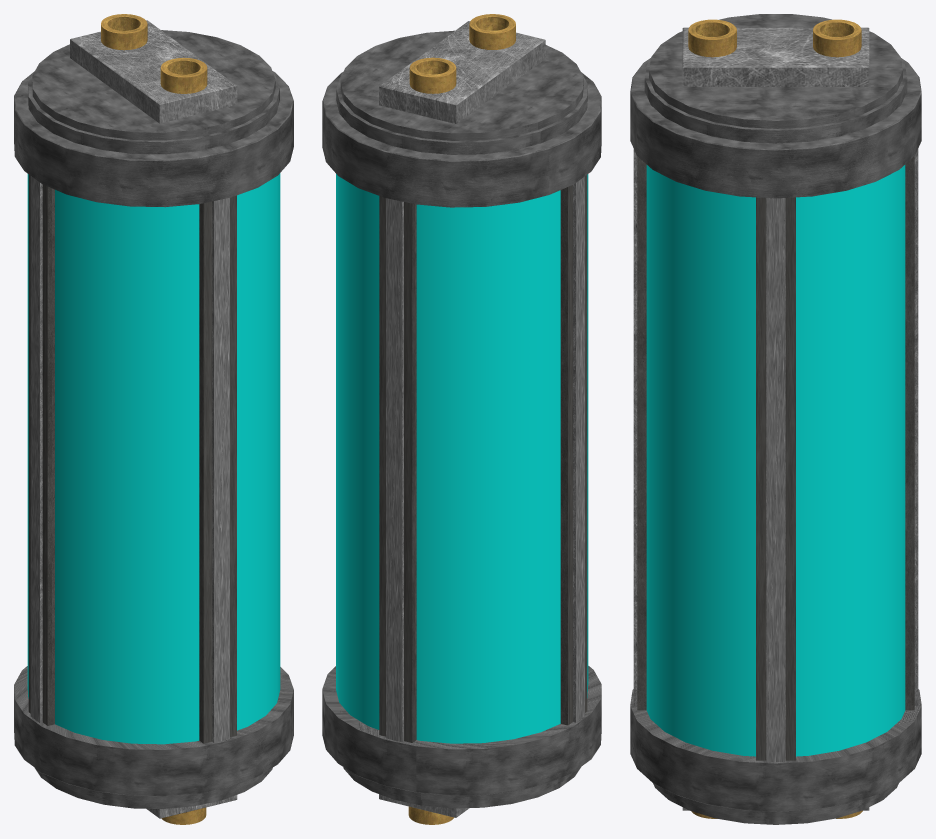
File: PowerSource.fbx
The picture shows the model from 3 angles, left to right: view 1: azimuth 30°, elevation 25°; view 2: azimuth 150°, elevation 25°; view 3: azimuth 270°, elevation 25°; orthographic projection. The views are drawn at different scales.
Visible parts, largest first — view 1: pasted__pCylinder1, polySurface6, pasted__pCube2, polySurface10, pasted__pasted__pCube2, polySurface13, polySurface15; view 2: pasted__pCylinder1, polySurface6, pasted__pCube2, polySurface10, pasted__pasted__pCube2, polySurface13, polySurface15; view 3: pasted__pCylinder1, polySurface6, pasted__pasted__pCube2, polySurface10, pasted__pCube2, polySurface13.
Boxes of the visible parts, bbox=[...] form: pasted__pCylinder1: bbox=[27, 173, 280, 744]; polySurface6: bbox=[14, 30, 293, 207]; pasted__pCube2: bbox=[199, 195, 236, 743]; polySurface10: bbox=[14, 666, 293, 808]; pasted__pasted__pCube2: bbox=[28, 174, 54, 725]; polySurface13: bbox=[70, 14, 237, 123]; polySurface15: bbox=[146, 795, 237, 824]; pasted__pCylinder1: bbox=[336, 174, 588, 743]; polySurface6: bbox=[322, 30, 601, 207]; pasted__pCube2: bbox=[379, 196, 416, 742]; polySurface10: bbox=[322, 666, 601, 808]; pasted__pasted__pCube2: bbox=[560, 175, 587, 725]; polySurface13: bbox=[379, 14, 545, 123]; polySurface15: bbox=[379, 794, 469, 824]; pasted__pCylinder1: bbox=[646, 165, 905, 756]; polySurface6: bbox=[630, 14, 921, 198]; pasted__pasted__pCube2: bbox=[756, 197, 795, 761]; polySurface10: bbox=[630, 689, 921, 824]; pasted__pCube2: bbox=[633, 149, 918, 710]; polySurface13: bbox=[682, 19, 869, 86].
Size of the model in its own units: 3.12 by 9.21 by 3.13.
Materials: 8 (8 with a texture image).
